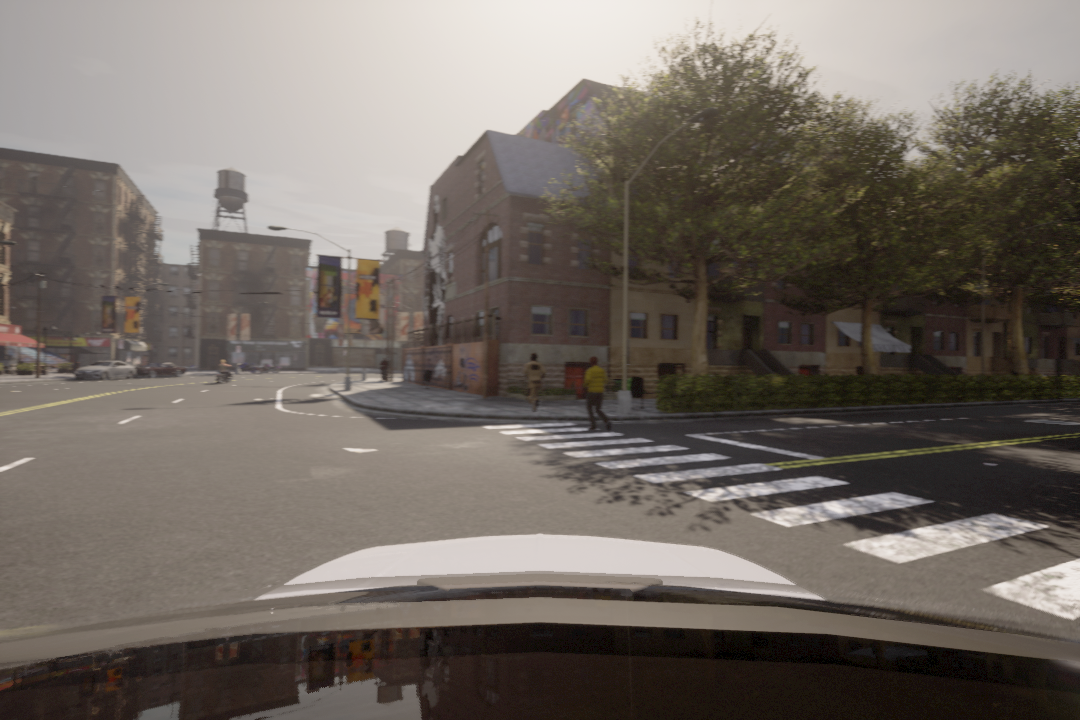walkside: (479, 422, 1080, 631)
